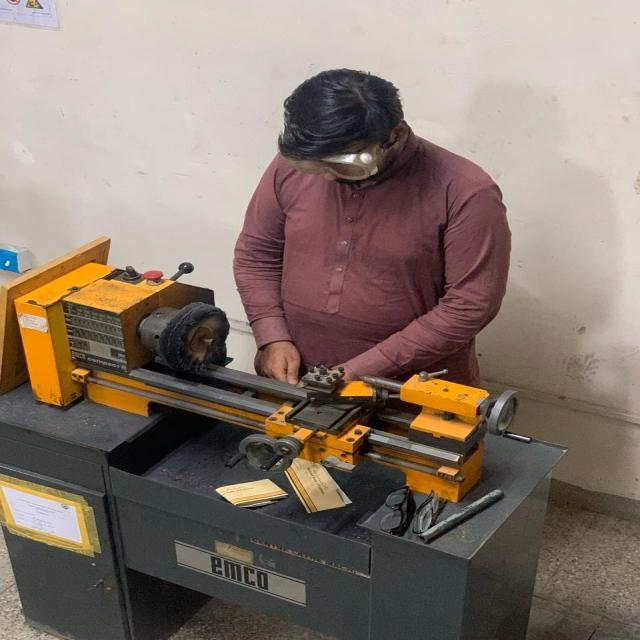googles: (283, 148, 384, 180)
